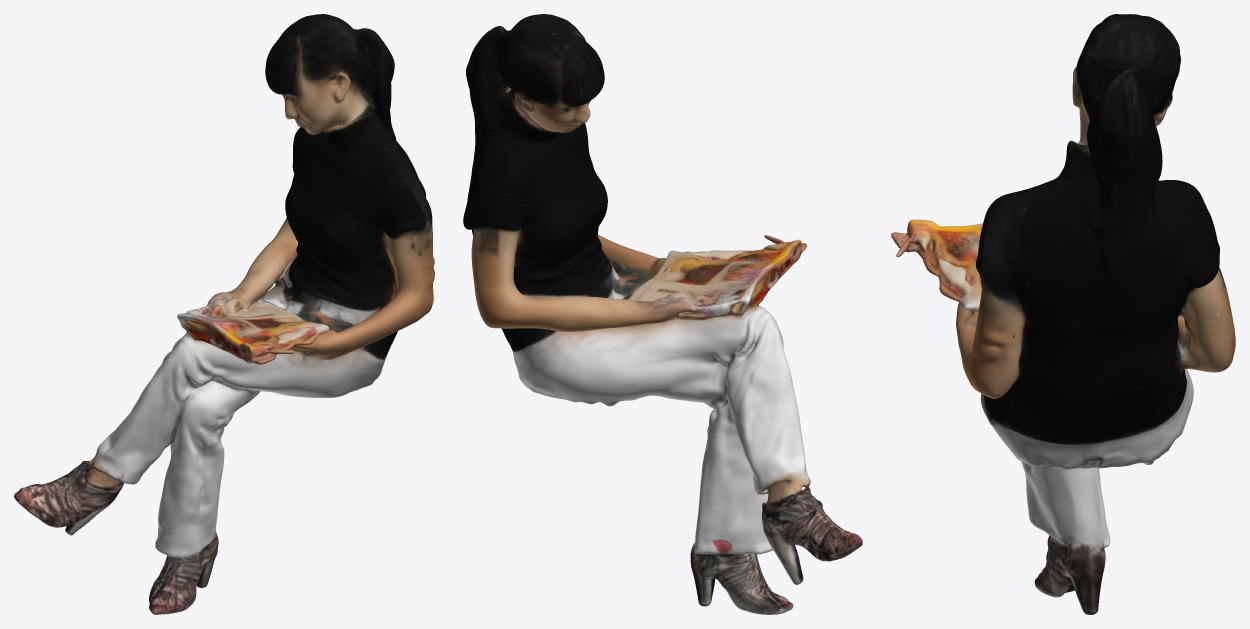
The model's file is sitting_woman.glb.
3 views of the same model, side by side, from view 1: azimuth 30°, elevation 25°; view 2: azimuth 150°, elevation 25°; view 3: azimuth 270°, elevation 25° (orthographic). The views are drawn at different scales.
Visible parts, largest first — view 1: world; view 2: world; view 3: world.
Part boxes in pixels (<box>): world: <box>14,14,434,614</box>; world: <box>463,14,862,614</box>; world: <box>891,14,1235,614</box>.
Size of the model in its own units: 0.738 by 1 by 0.4596.
Materials: 1 (1 with a texture image).
